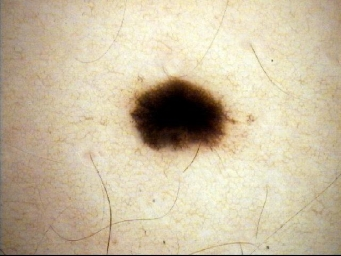melanoma: (131, 76, 225, 152)
